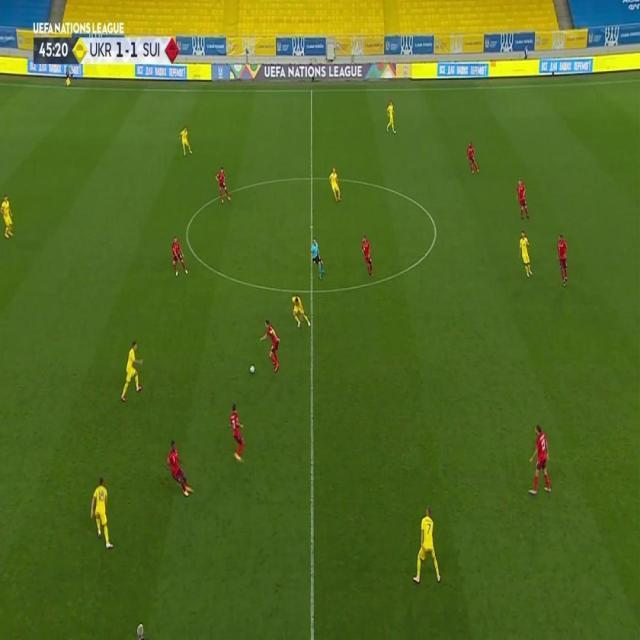ball: (249, 364, 255, 375)
player: (412, 505, 442, 587), (527, 421, 552, 498), (90, 476, 114, 550), (165, 439, 193, 499), (119, 340, 144, 404), (260, 319, 281, 374), (228, 400, 245, 462), (517, 230, 534, 281), (171, 236, 190, 277), (290, 292, 311, 329), (555, 233, 569, 288), (360, 236, 376, 278), (0, 192, 14, 239), (515, 178, 530, 221), (215, 166, 231, 205), (465, 140, 481, 176), (329, 165, 343, 204), (386, 99, 398, 137), (179, 125, 193, 157)
referee: (310, 236, 326, 281), (65, 63, 73, 86)
